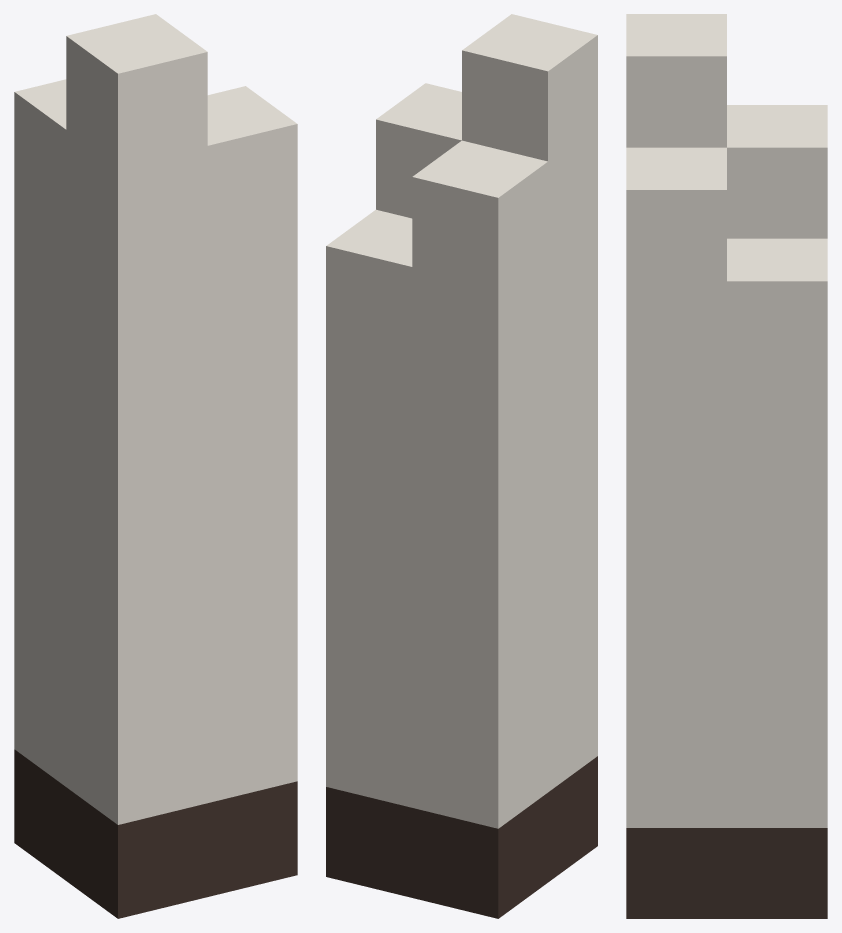
Rendered from goat_kid__leg_fr.glb.
3 views of the same model, side by side, from view 1: azimuth 30°, elevation 25°; view 2: azimuth 150°, elevation 25°; view 3: azimuth 270°, elevation 25° (orthographic). The views are drawn at different scales.
Visible parts, largest first — view 1: goat_kid__leg_fr; view 2: goat_kid__leg_fr; view 3: goat_kid__leg_fr.
Boxes of the visible parts, box(x1,y1,x2,y2) form: goat_kid__leg_fr: box(14, 14, 297, 918); goat_kid__leg_fr: box(326, 14, 597, 918); goat_kid__leg_fr: box(626, 14, 827, 918).
Bounding box in the file's own units: 0.2 × 0.9 × 0.2.
Materials: 1 (1 with a texture image).
